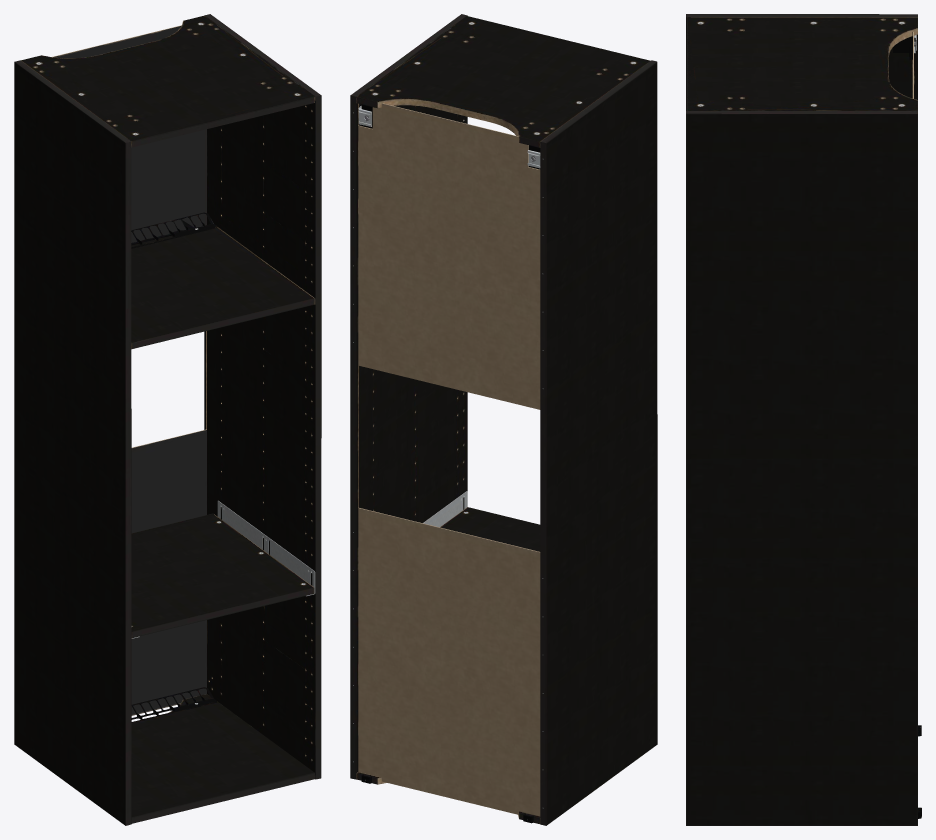
File: metod_90591687.glb
3 renders of one model, left to right at view 1: azimuth 30°, elevation 25°; view 2: azimuth 150°, elevation 25°; view 3: azimuth 270°, elevation 25°, orthographic. The views are drawn at different scales.
Parts seen in each view (by area): view 1: metod_90591687; view 2: metod_90591687; view 3: metod_90591687.
Boxes of the visible parts, bbox=[...] form: metod_90591687: bbox=[14, 14, 321, 825]; metod_90591687: bbox=[350, 14, 657, 825]; metod_90591687: bbox=[686, 14, 921, 825].
Bounding box in the file's own units: 0.6 × 2 × 0.6001.
Materials: 1 (1 with a texture image).
